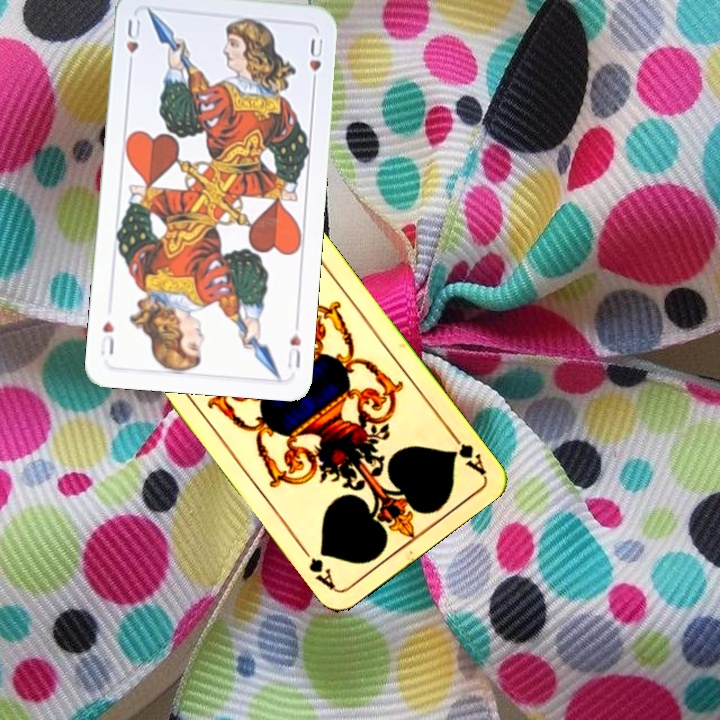GA: (445, 426, 488, 477)
HU: (122, 15, 143, 72), (283, 329, 304, 371)
